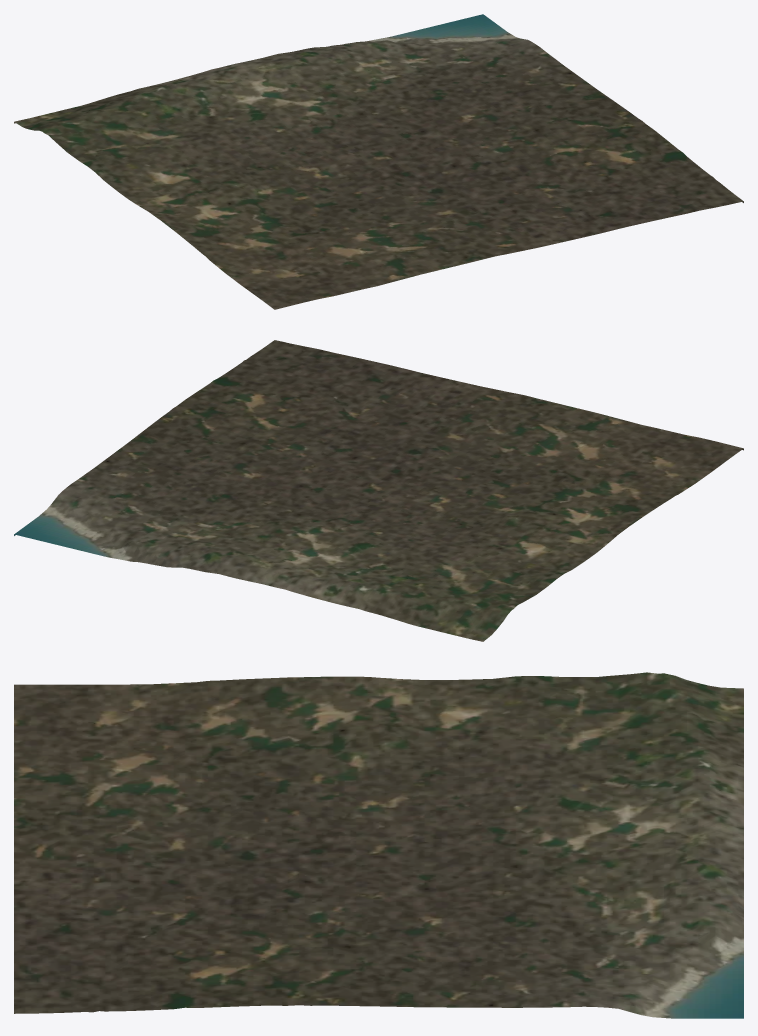
The picture shows the model from 3 angles, top to bottom: view 1: azimuth 30°, elevation 25°; view 2: azimuth 150°, elevation 25°; view 3: azimuth 270°, elevation 25°; orthographic projection. The views are drawn at different scales.
Bounding box in the file's own units: 250 × 10.4 × 241.
1 material, 1 textured.
